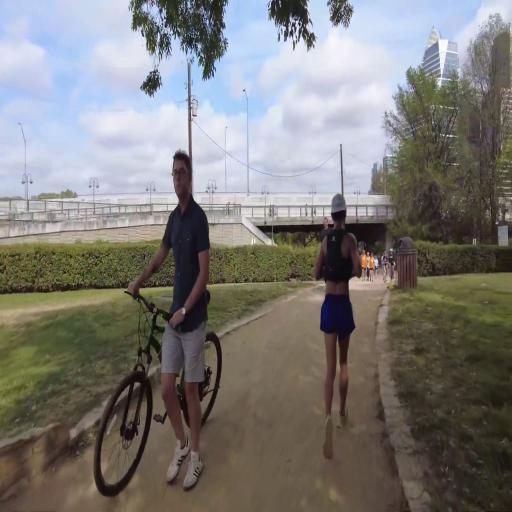Street_Light: (14, 113, 35, 210), (239, 78, 255, 199), (221, 120, 232, 197)
